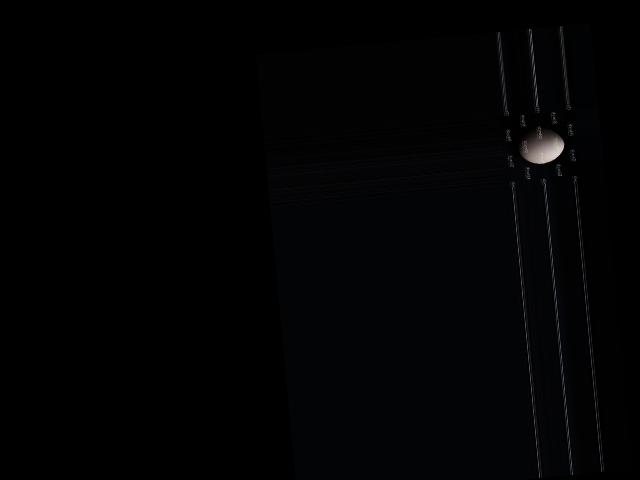egg: (516, 126, 565, 165)
